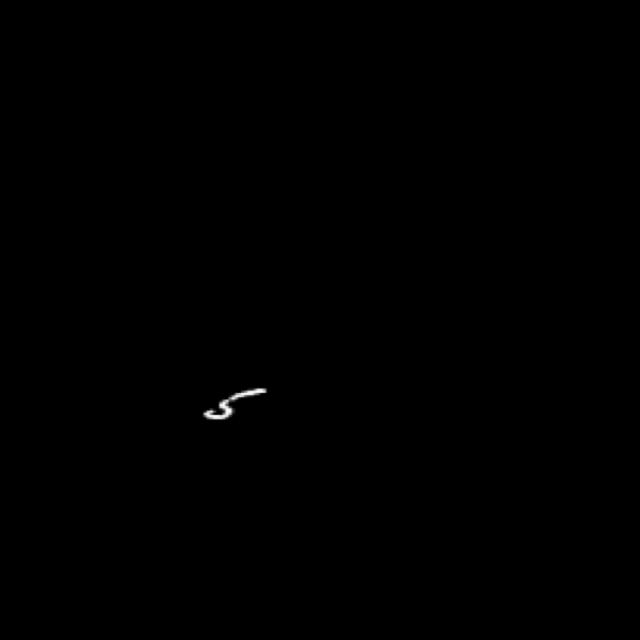five -5-: (198, 377, 275, 432)
